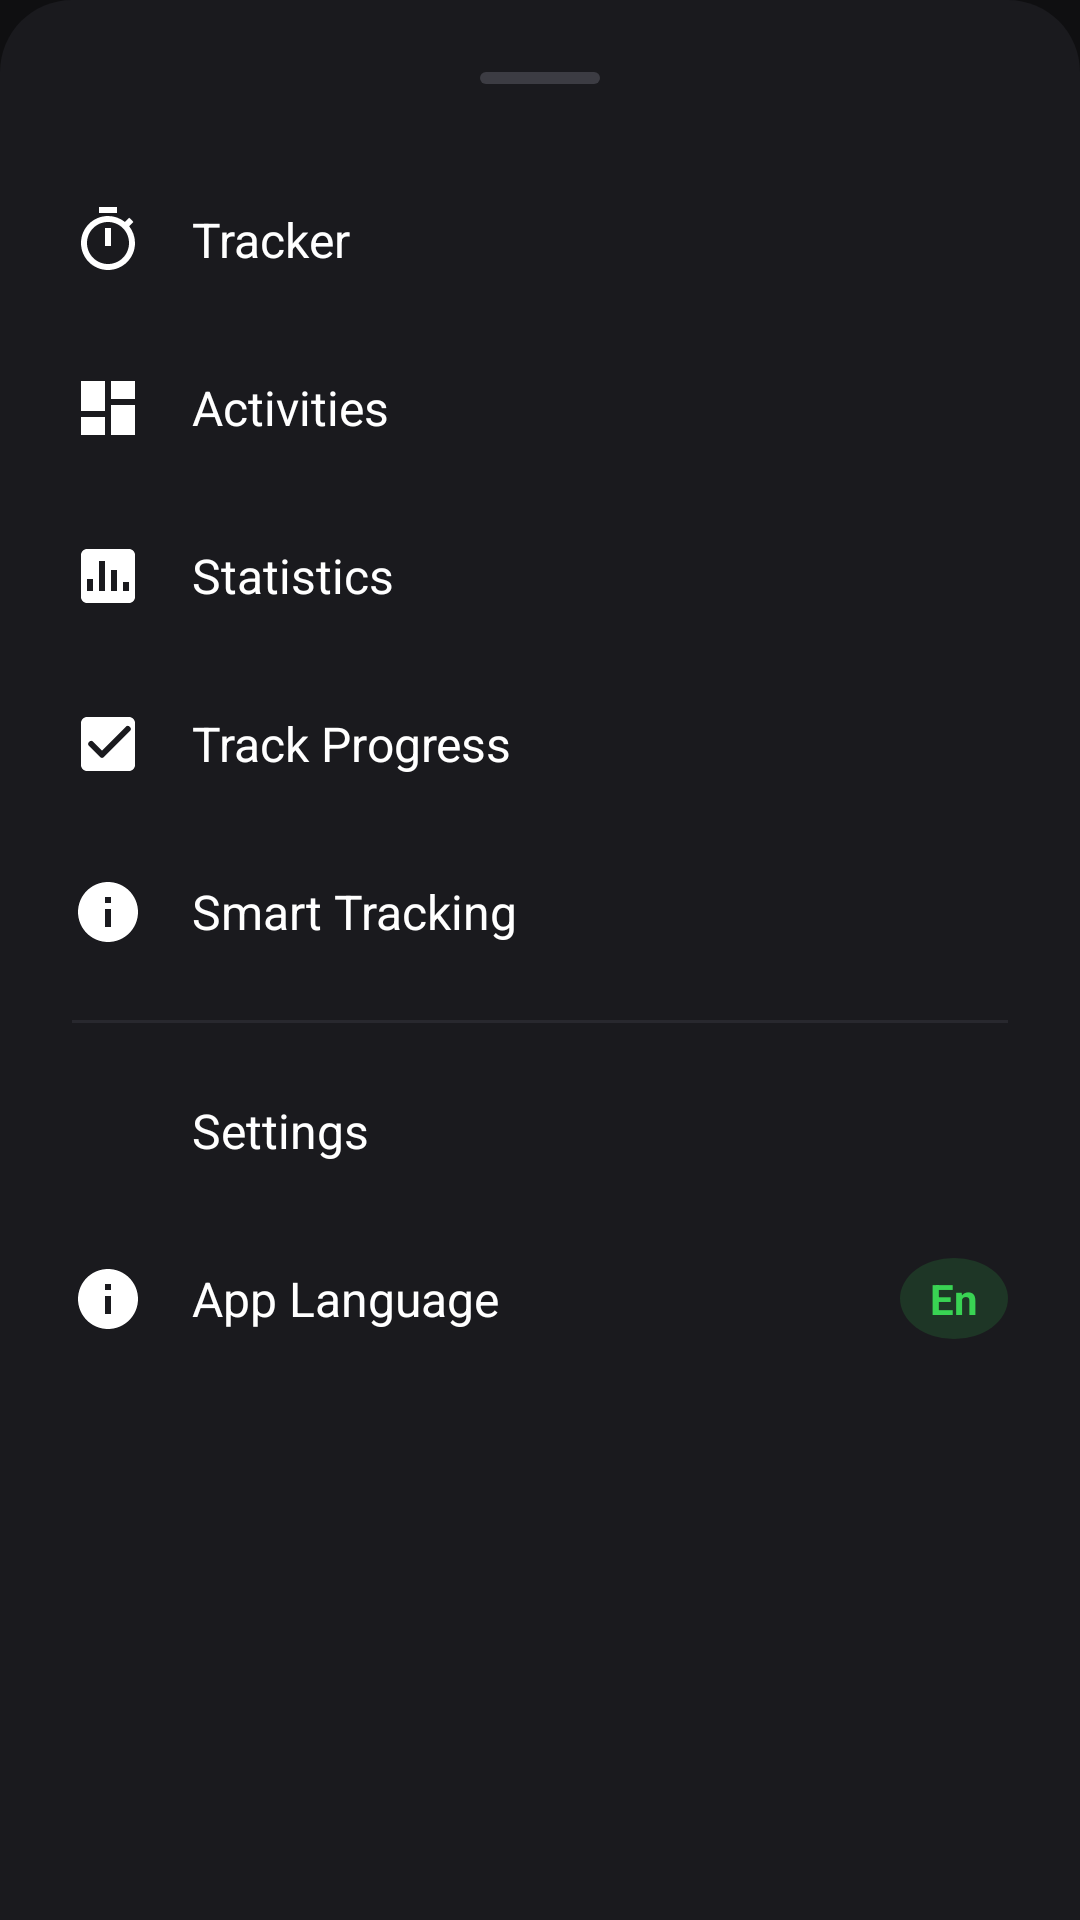

Screen size 1080×1920. Icon name, then its center in pixels as [x,y]:
stats: [108,576]
